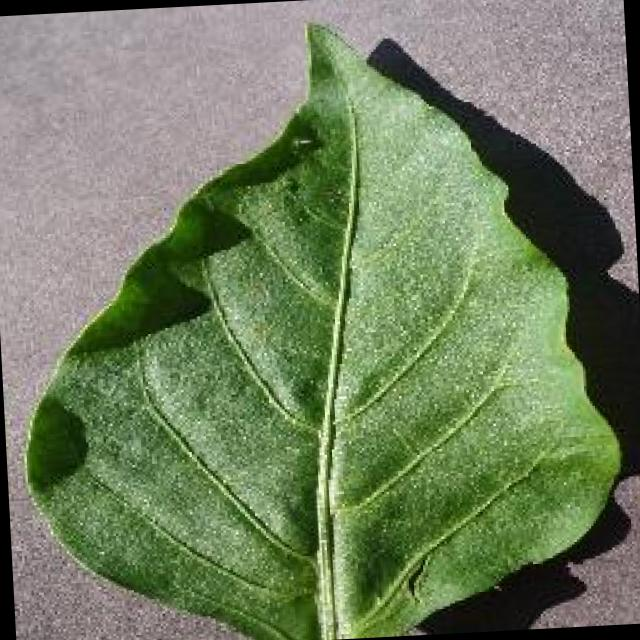Chilli_Healthy: (0, 2, 631, 640)
